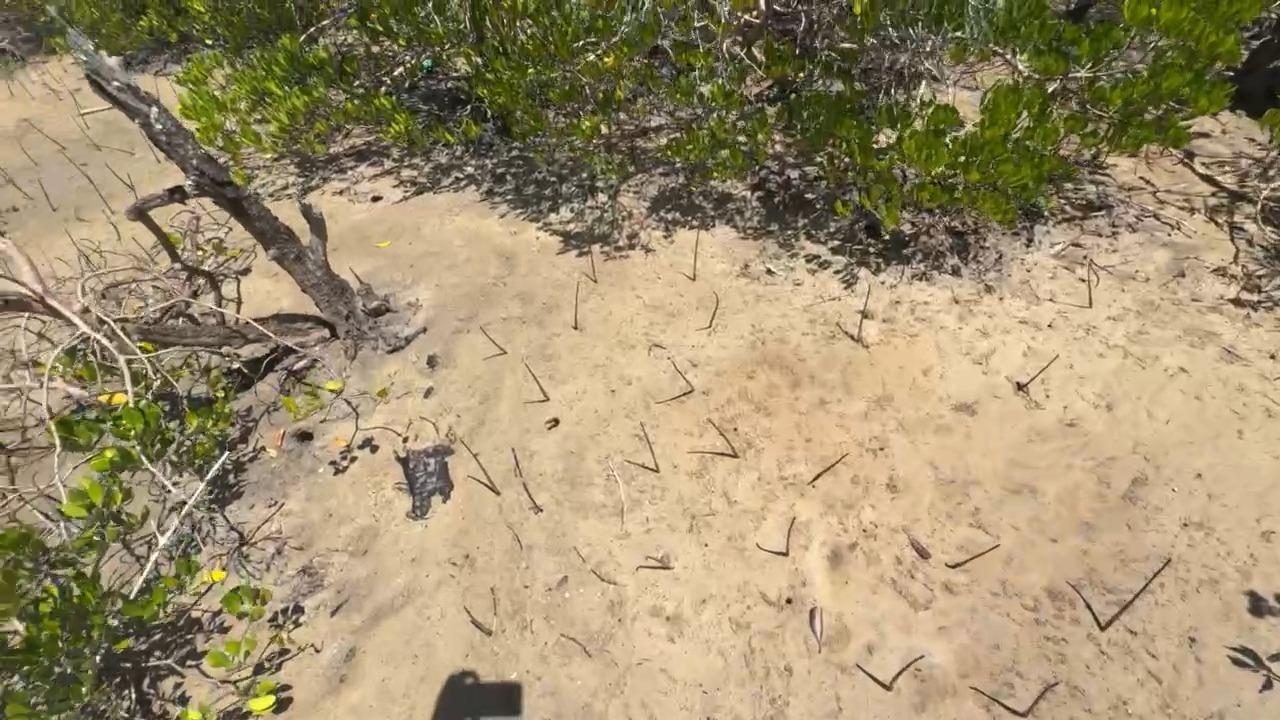Tree: (1100, 557, 1171, 633), (459, 439, 501, 495), (1022, 681, 1063, 718), (1019, 354, 1059, 390), (62, 227, 95, 270), (807, 452, 849, 485), (888, 654, 925, 691), (1087, 258, 1113, 310), (56, 148, 94, 182), (706, 417, 738, 457), (26, 118, 65, 150), (69, 114, 102, 151), (954, 543, 1000, 568), (639, 421, 660, 474), (87, 176, 116, 214), (0, 167, 33, 199), (525, 362, 549, 401), (67, 89, 90, 129), (479, 324, 507, 354), (463, 604, 491, 634), (104, 162, 133, 190), (856, 284, 870, 339), (132, 236, 159, 264), (671, 360, 695, 391), (139, 131, 161, 164), (196, 198, 221, 226), (521, 482, 543, 513), (85, 143, 136, 156), (102, 208, 122, 241), (37, 177, 56, 211), (708, 291, 720, 328), (786, 516, 797, 555), (19, 143, 37, 166), (693, 223, 700, 281), (511, 447, 524, 478), (17, 78, 35, 100), (587, 244, 597, 282), (646, 556, 672, 570), (44, 62, 60, 84), (573, 281, 580, 329), (126, 173, 137, 200), (348, 266, 363, 284), (165, 76, 177, 95), (153, 74, 160, 102), (7, 80, 14, 96)
